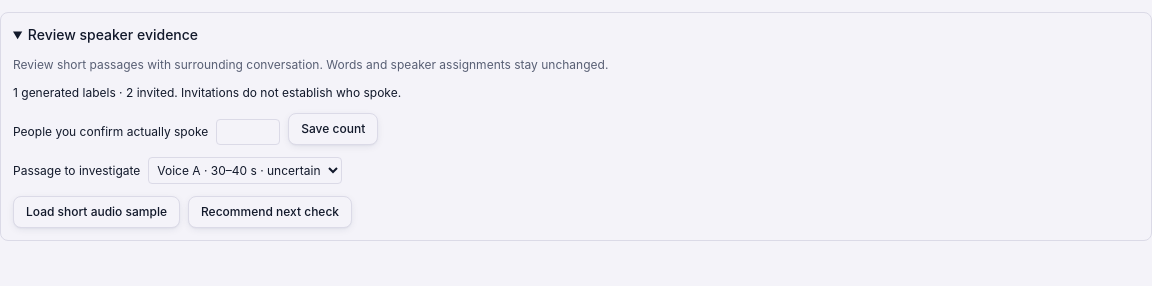
Scenario: SpeakerReviewPanel › does no work until opened and does not substitute the invitation count for a confirmation
The width and height of the screenshot is (1152, 286).
Expected: the button "Save count" is shown, [288,113,378,145]
Expected: the text "Invitations do not establish" is shown, [181,85,401,100]
Step 1. Type "2" into the number field → (248, 132), box [216,119,280,145]
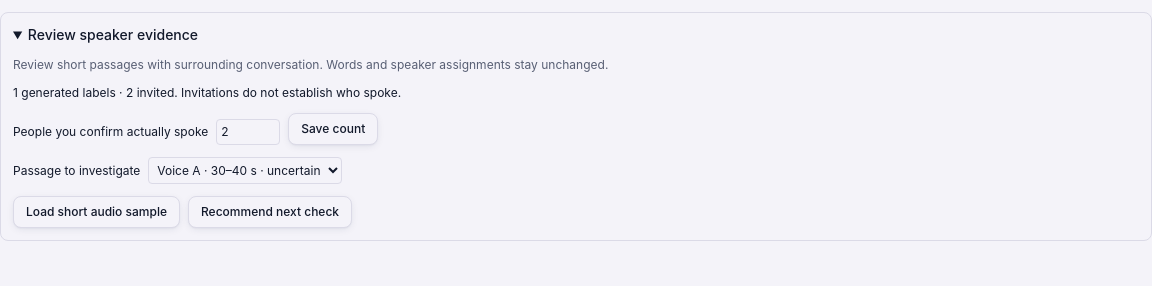
Step 2. Click the button "Save count" → (333, 129), box [288,113,378,145]
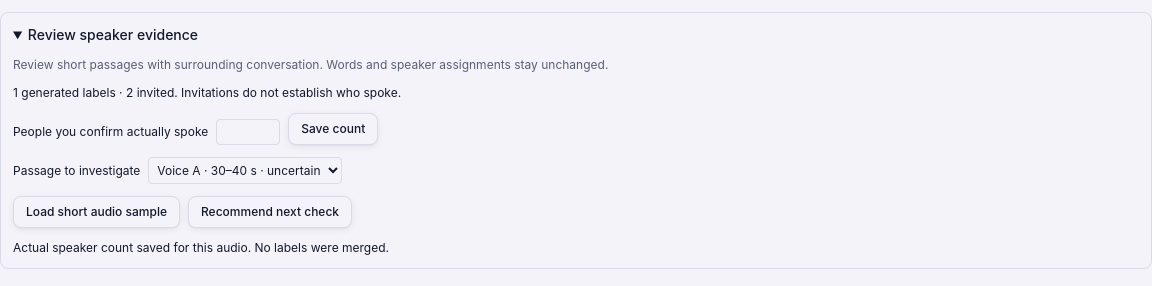
Result: the text "Actual speaker count saved for this audio. No labels were merged." is shown at [13,240,389,255]
